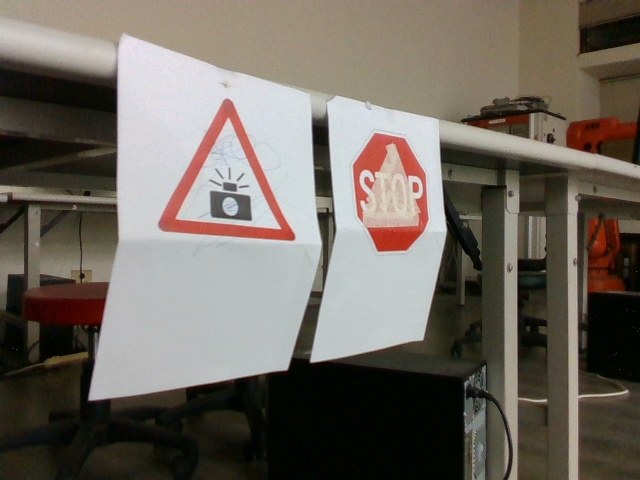camera: (167, 98, 291, 238)
stop: (353, 132, 431, 254)
